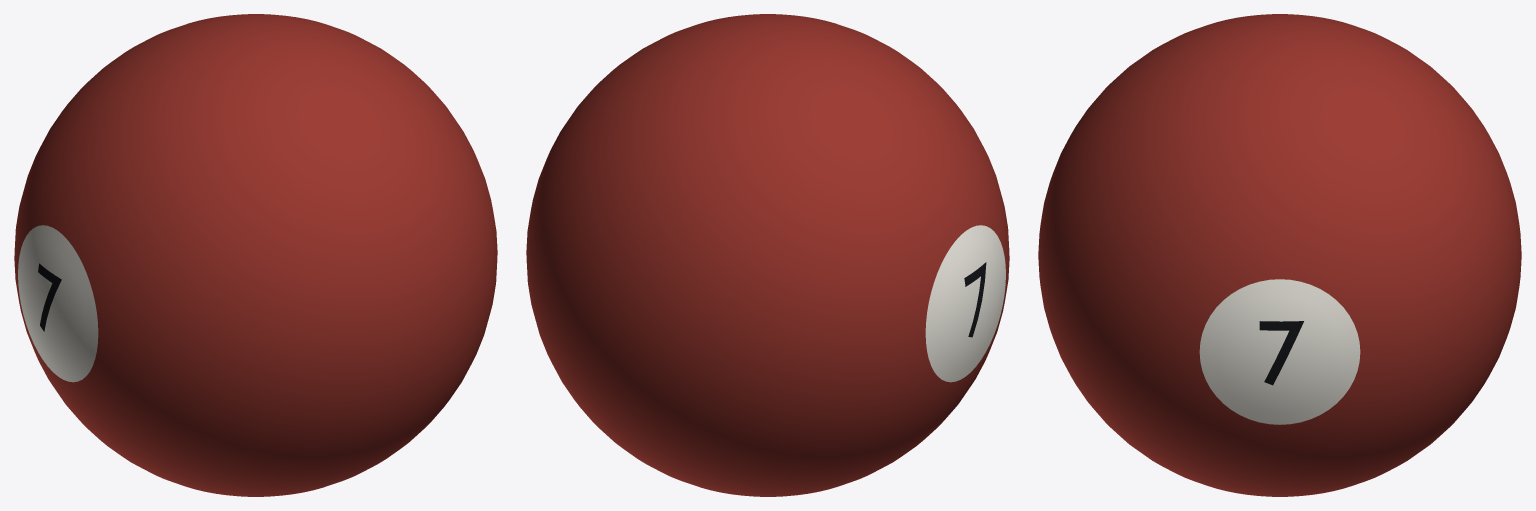
File: ball_07.glb
The picture shows the model from 3 angles, left to right: view 1: azimuth 30°, elevation 25°; view 2: azimuth 150°, elevation 25°; view 3: azimuth 270°, elevation 25°; orthographic projection.
Visible parts, largest first — view 1: Ball 07 | resin, Ball 07 | number medallion | opposite, Ball 07 | numeral 7 | opposite; view 2: Ball 07 | resin, Ball 07 | number medallion | opposite, Ball 07 | numeral 7 | opposite; view 3: Ball 07 | resin, Ball 07 | number medallion, Ball 07 | numeral 7.
Part boxes in pixels (x1,y1,x2,y2): Ball 07 | resin: [14, 14, 497, 496]; Ball 07 | number medallion | opposite: [18, 225, 98, 382]; Ball 07 | numeral 7 | opposite: [38, 263, 61, 331]; Ball 07 | resin: [526, 14, 1009, 496]; Ball 07 | number medallion | opposite: [925, 225, 1005, 382]; Ball 07 | numeral 7 | opposite: [964, 262, 986, 337]; Ball 07 | resin: [1038, 14, 1521, 496]; Ball 07 | number medallion: [1199, 279, 1360, 424]; Ball 07 | numeral 7: [1259, 321, 1303, 385].
Size of the model in its own units: 0.0573 by 0.0571 by 0.0571.
